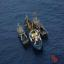fishing boat: (23, 16, 44, 51), (32, 13, 50, 40), (15, 19, 30, 46)
